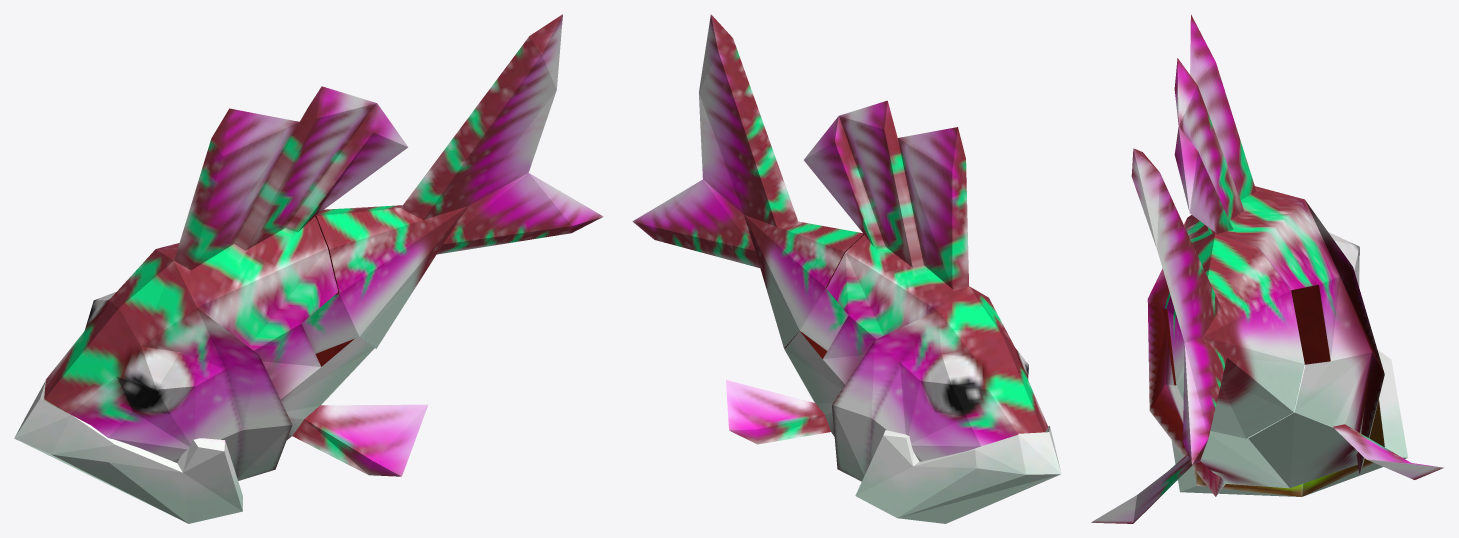
The model's file is Fish (Red).obj.
3 renders of one model, left to right at view 1: azimuth 30°, elevation 25°; view 2: azimuth 150°, elevation 25°; view 3: azimuth 270°, elevation 25°, orthographic. The views are drawn at different scales.
Visible parts, largest first — view 1: Fish_Red; view 2: Fish_Red; view 3: Fish_Red.
Part boxes in pixels (<box>): Fish_Red: <box>14,14,603,523</box>; Fish_Red: <box>632,14,1061,523</box>; Fish_Red: <box>1091,14,1443,523</box>.
Size of the model in its own units: 3.53 by 2.8 by 1.7.
1 material, 1 textured.
